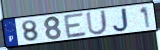1: (138, 5, 151, 30)
8: (43, 16, 63, 41), (20, 19, 41, 42)
E: (62, 12, 88, 40)
J: (111, 7, 130, 34)
U: (85, 9, 109, 36)
